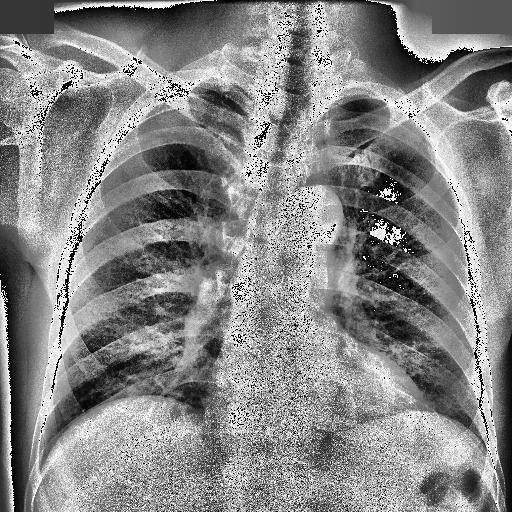0- Aortic enlargement: (274, 182, 344, 263), (281, 184, 343, 249), (280, 186, 344, 238)
3- Cardiomegaly: (201, 366, 438, 443)
